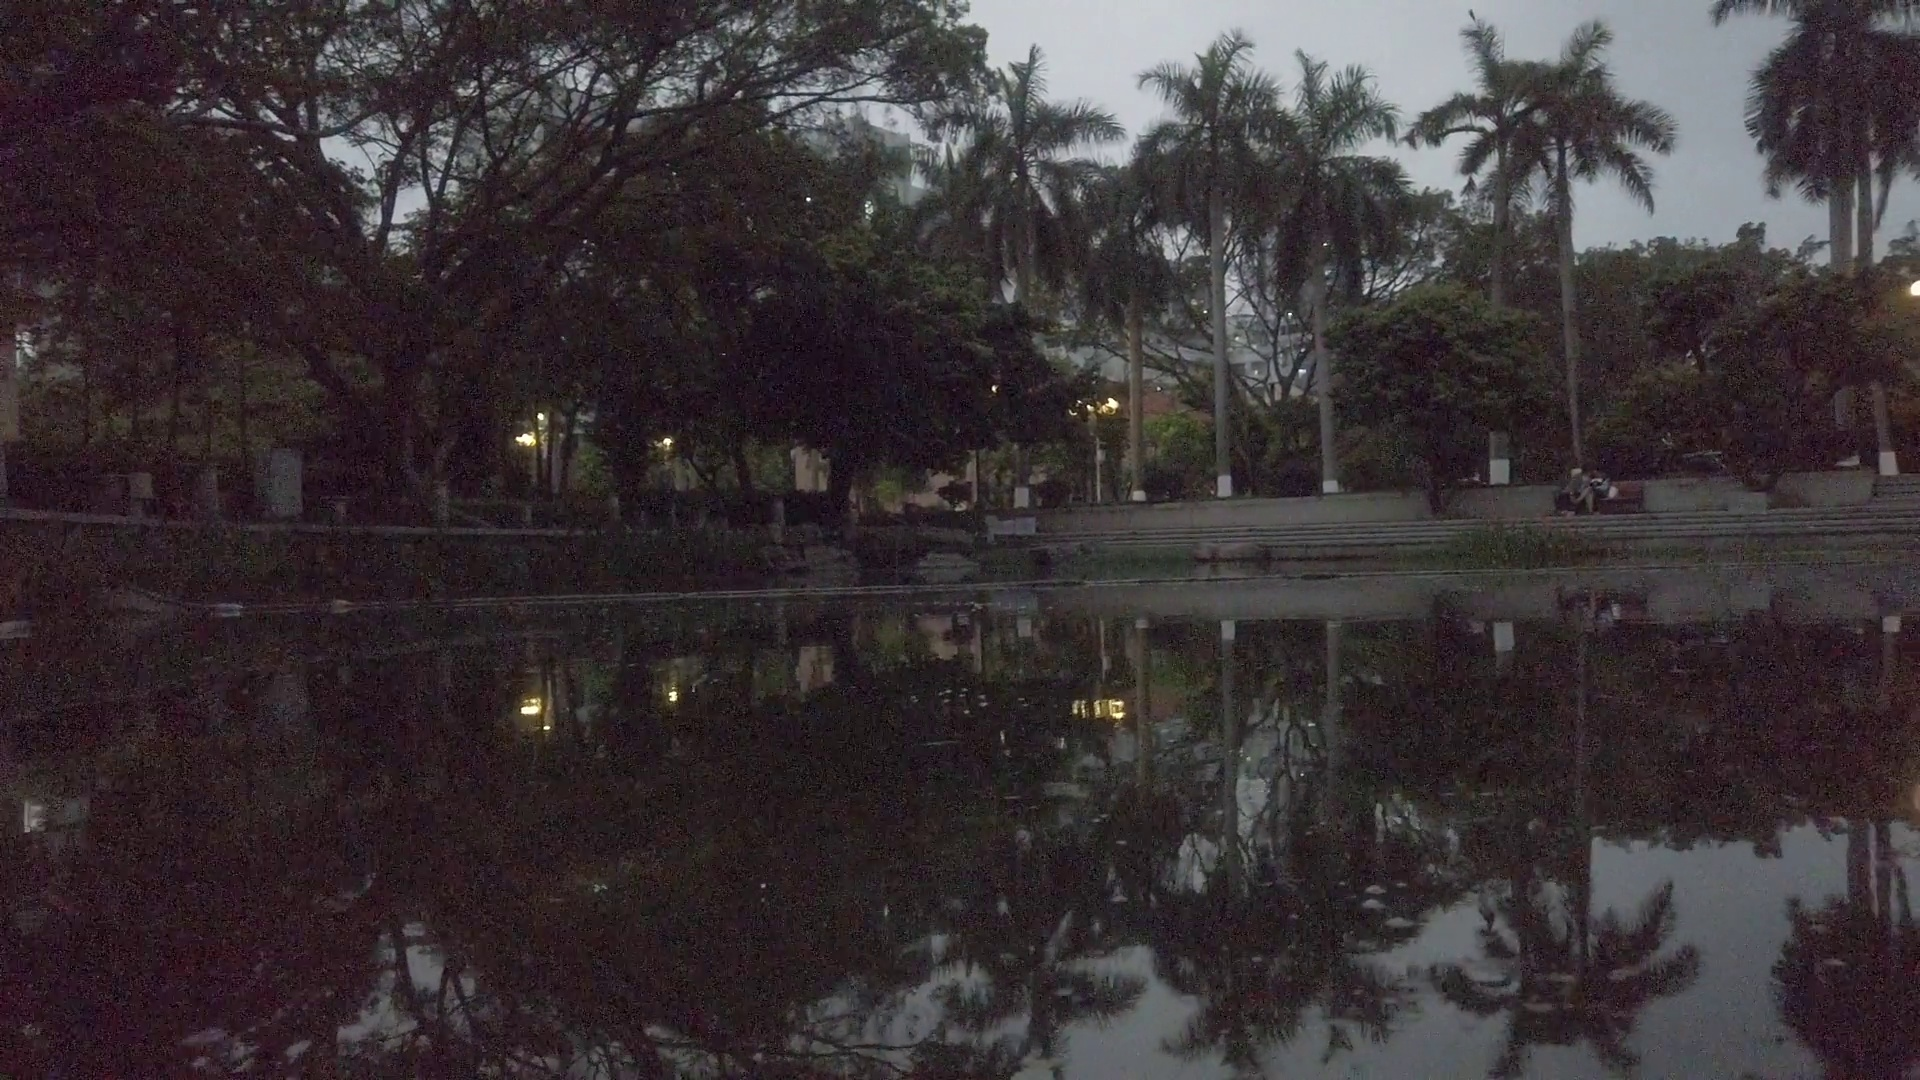bottle: (215, 601, 247, 615)
